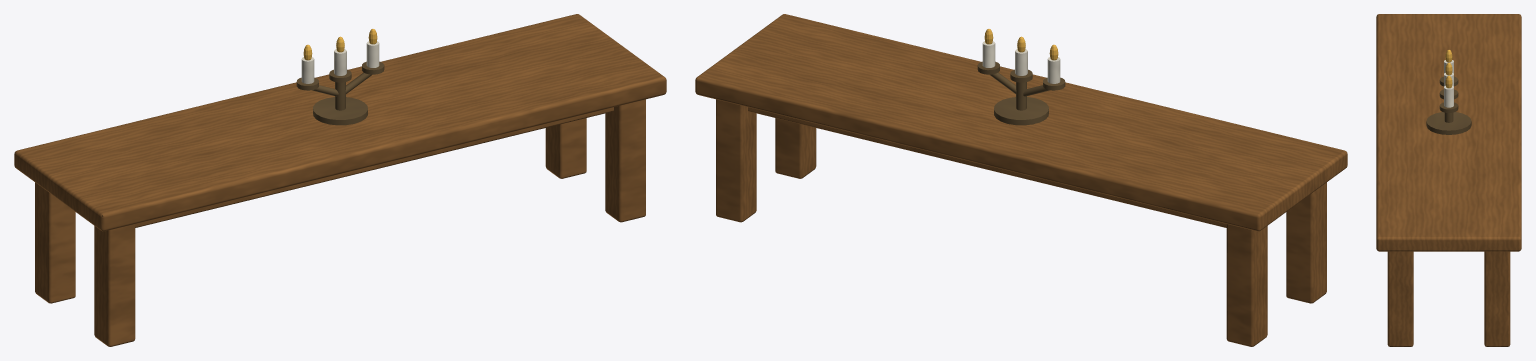
The model's file is Furn_DiningTable.fbx.
3 renders of one model, left to right at view 1: azimuth 30°, elevation 25°; view 2: azimuth 150°, elevation 25°; view 3: azimuth 270°, elevation 25°, orthographic. The views are drawn at different scales.
Visible parts, largest first — view 1: Furn_DiningTable_Mesh; view 2: Furn_DiningTable_Mesh; view 3: Furn_DiningTable_Mesh.
Boxes of the visible parts, x1,y1,x2,y2 form: Furn_DiningTable_Mesh: (14,14,666,346); Furn_DiningTable_Mesh: (695,14,1347,346); Furn_DiningTable_Mesh: (1376,14,1521,346).
Size of the model in its own units: 3.3 by 1.22 by 0.9.
Materials: 4 (4 with a texture image).
